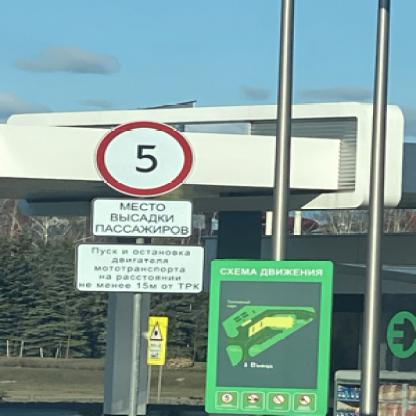speedlimit: (92, 119, 192, 196)
